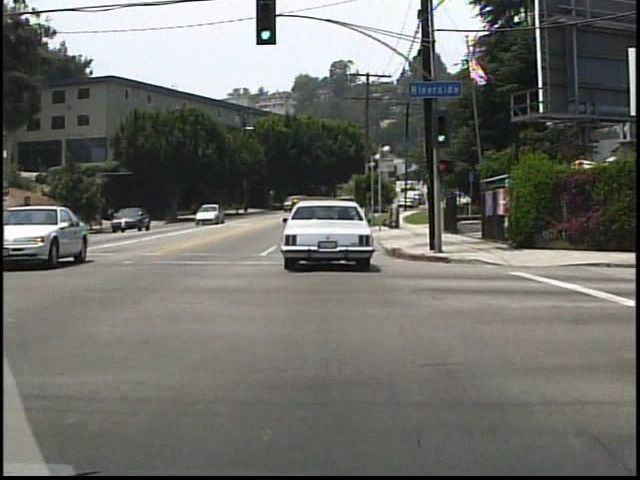person: (108, 206, 119, 230)
